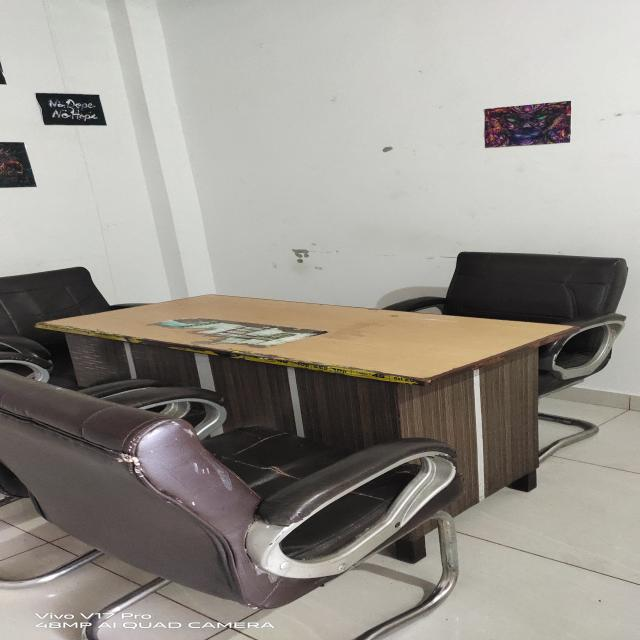Chair: (0, 358, 466, 640), (360, 247, 632, 468), (0, 264, 190, 406)
